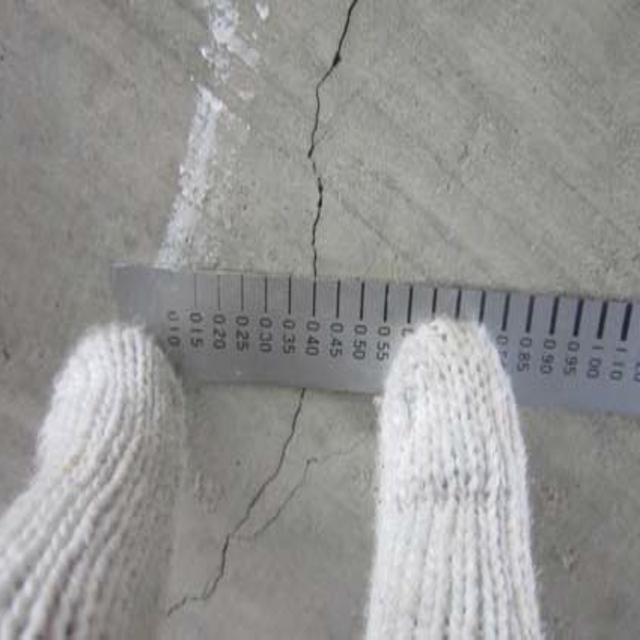crack: (167, 393, 314, 630), (290, 1, 363, 290)
